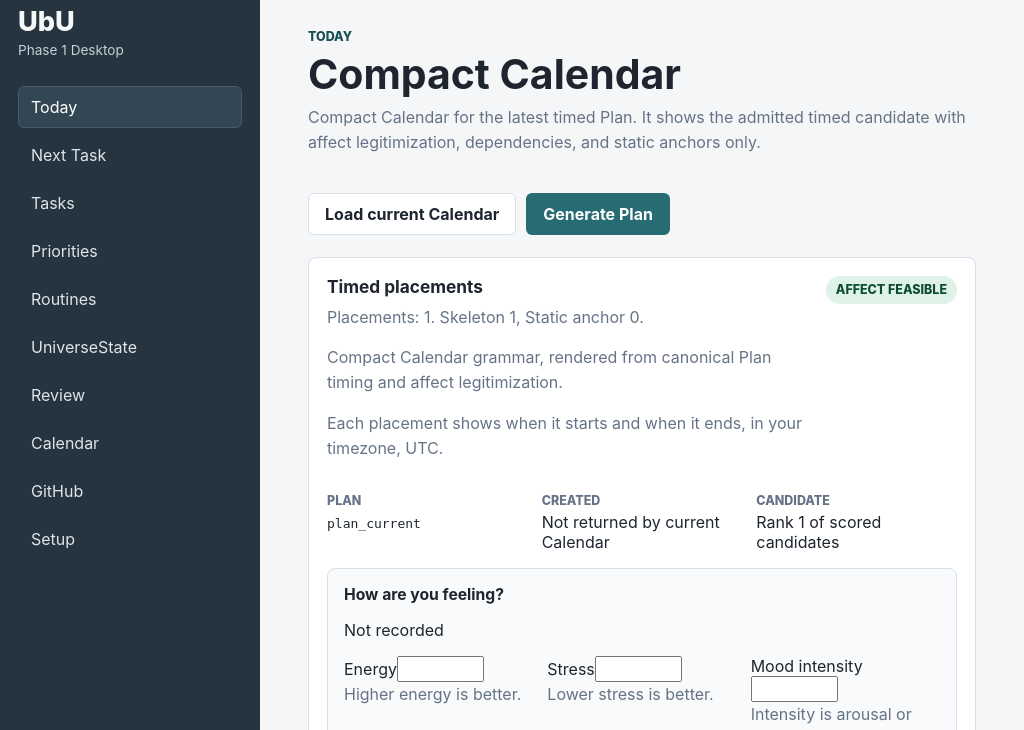
Test: UbU UI scaffold › renders Compact Calendar generation and recalculation over loopback
expect the text "Rank 1 of scored candidates" is shown: met, box [756, 512, 881, 552]
expect the text "Affect feasible" is shown: met, box [826, 276, 957, 304]
Click the button "Generate Plan" at (598, 214), box [526, 192, 670, 234]
(page scrolled)
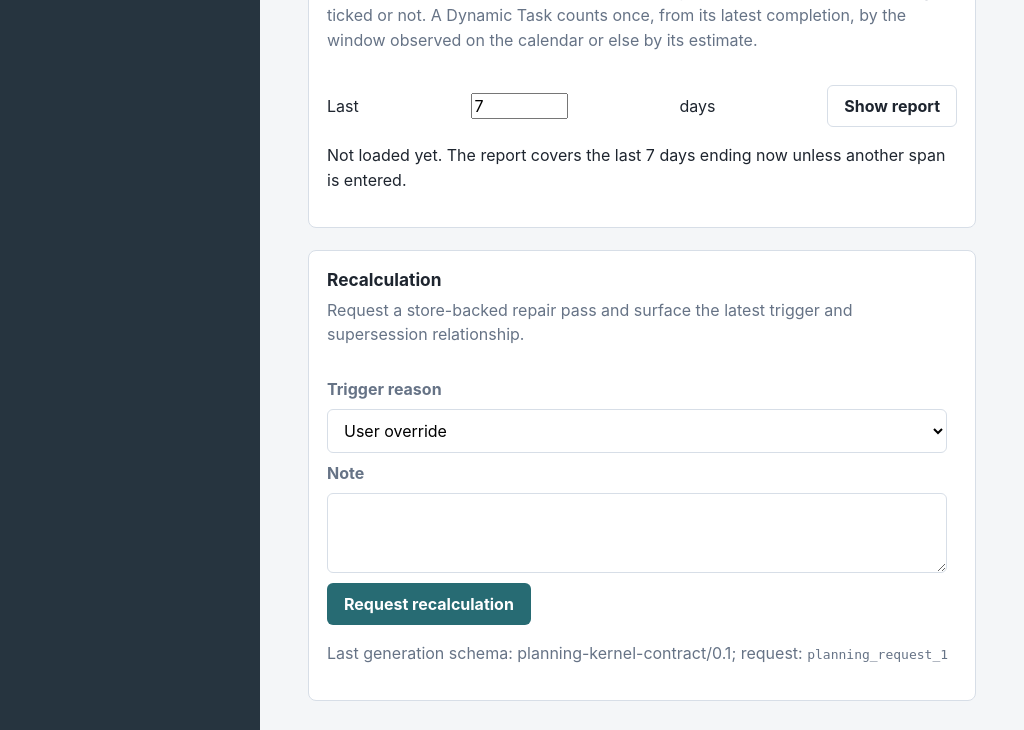
expect the text "Last generation schema: planning-kernel-contract/0.1" is shown: met, box [327, 641, 957, 666]
Type "manual adjustment" into the text box labelled "Note" at (637, 533), box [327, 493, 947, 573]
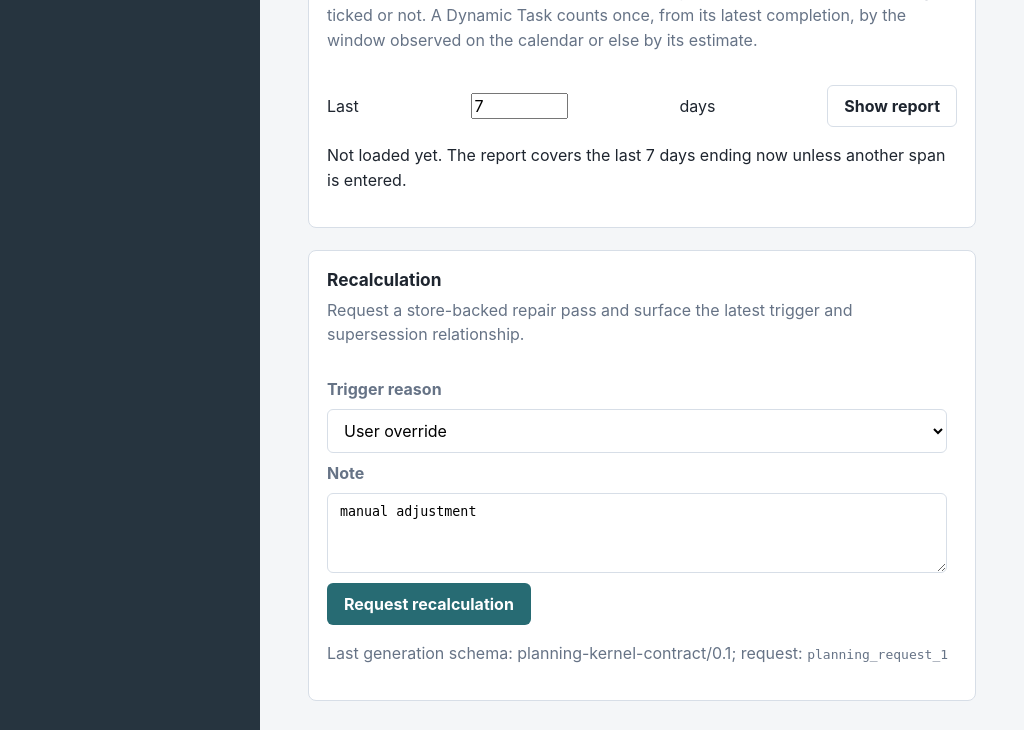
Click the button "Request recalculation" at (429, 604), box [327, 583, 531, 625]
(page scrolled)
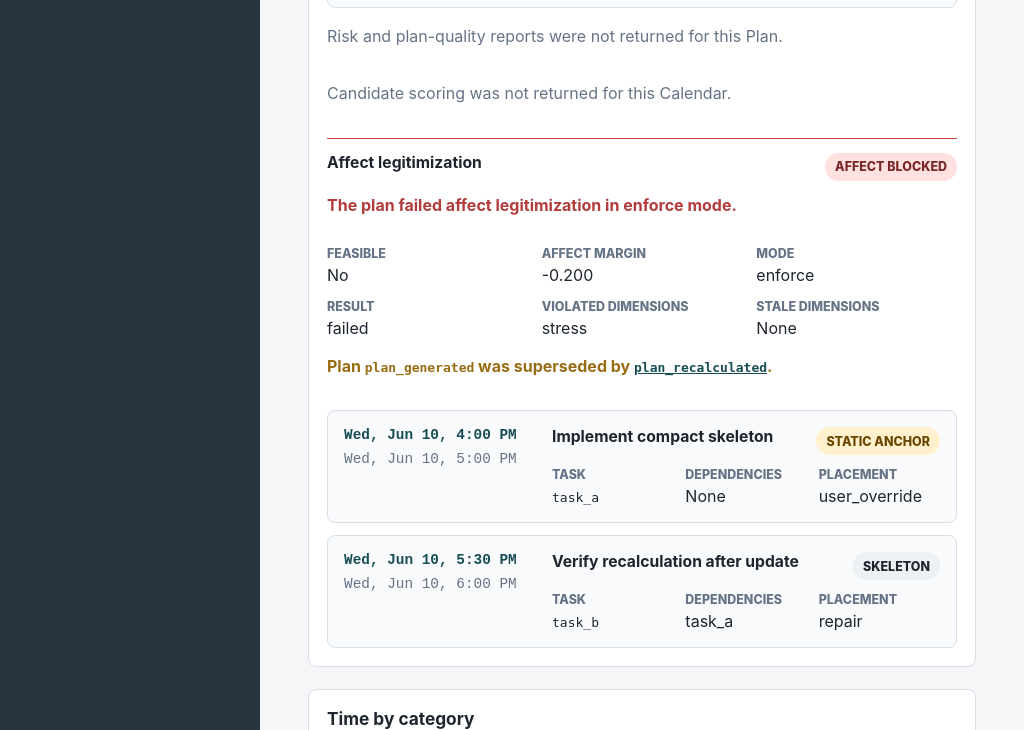
expect the heading "Verify recalculation after update" is shown: met, box [552, 552, 799, 571]
expect the text "The plan failed affect legitimization in enforce mode." is shown: met, box [327, 195, 737, 215]
expect the text "-0.200" is shown: met, box [542, 264, 593, 284]
